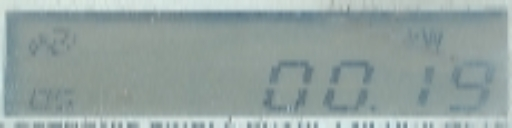0: (323, 48, 377, 115), (258, 52, 314, 113)
1: (401, 53, 439, 117)
9: (444, 52, 500, 117)
d: (366, 103, 381, 115)
